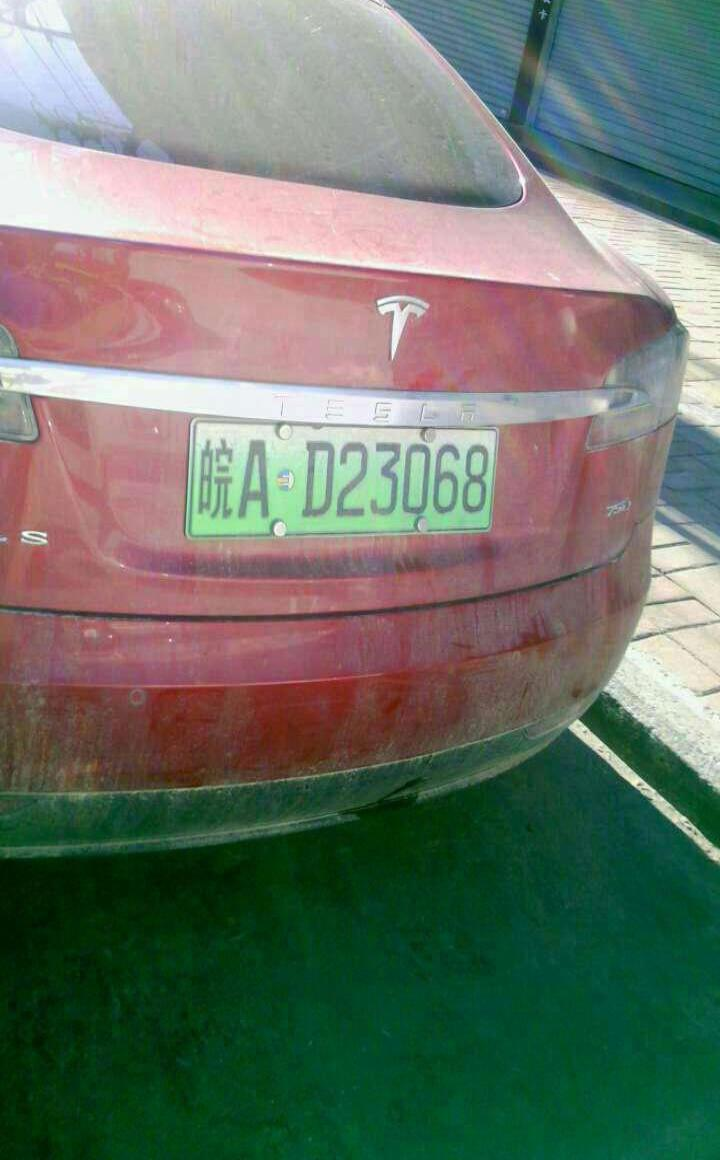car_id: (185, 416, 495, 538)
